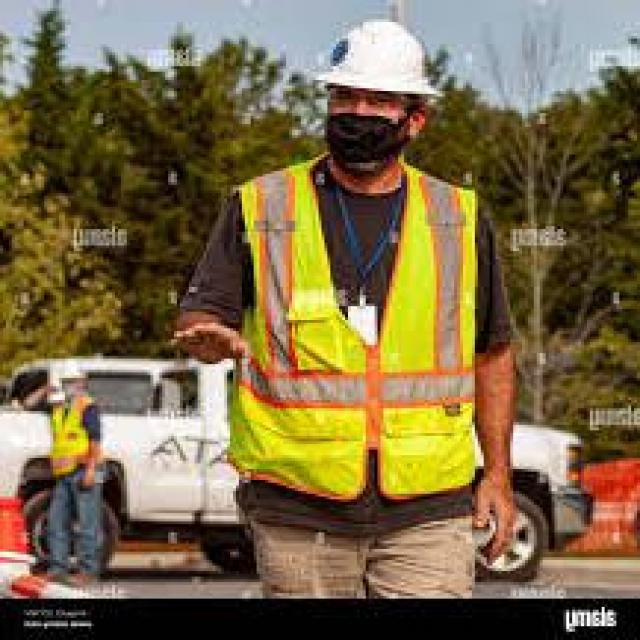Reflective-Jacket: (204, 158, 498, 510), (30, 389, 103, 491)
Safety-Helmet: (310, 11, 448, 110), (54, 350, 89, 389)
